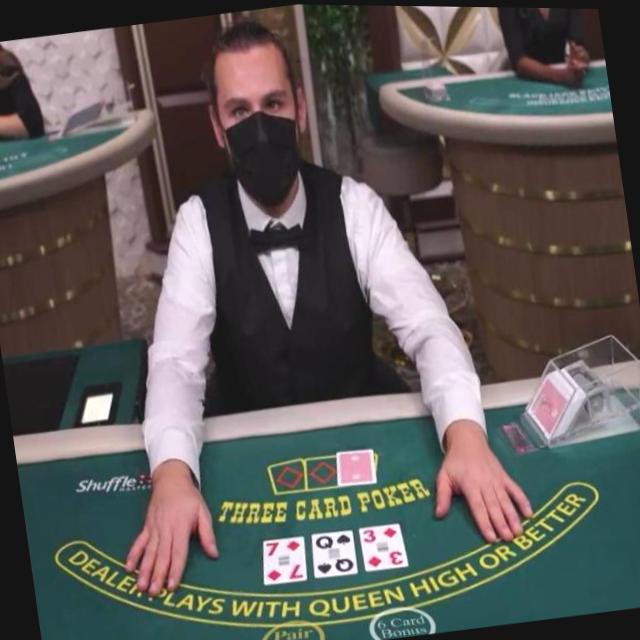Card-3: (360, 521, 409, 570)
Card-7: (263, 536, 307, 583)
Card-Q: (313, 529, 358, 576)
